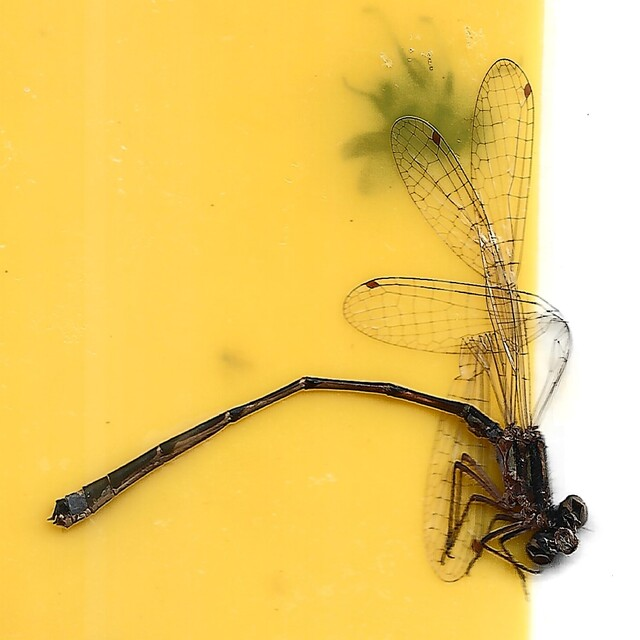Odonata: (49, 54, 591, 586)
